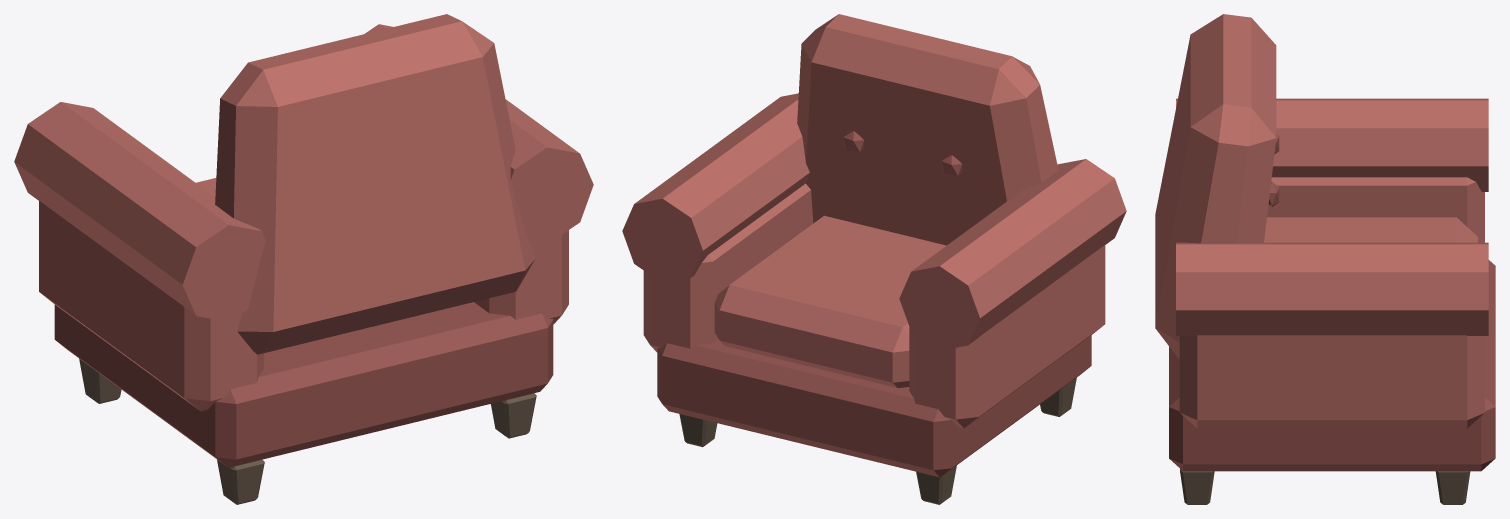
File: BUILD0029_ComfyArmchair.fbx
3 views of the same model, side by side, from view 1: azimuth 30°, elevation 25°; view 2: azimuth 150°, elevation 25°; view 3: azimuth 270°, elevation 25° (orthographic). The views are drawn at different scales.
Parts seen in each view (by area): view 1: BUILD0029_ComfyArmchair; view 2: BUILD0029_ComfyArmchair; view 3: BUILD0029_ComfyArmchair.
Part boxes in pixels (<box>): BUILD0029_ComfyArmchair: <box>14,14,593,504</box>; BUILD0029_ComfyArmchair: <box>622,14,1126,504</box>; BUILD0029_ComfyArmchair: <box>1155,14,1495,504</box>.
Size of the model in its own units: 1.24 by 1.18 by 0.9583.
